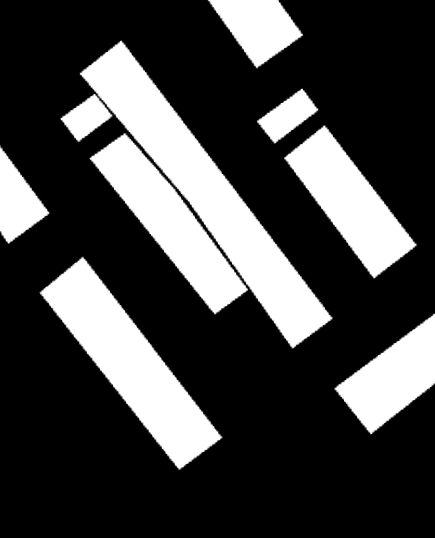parkingspot: (80, 41, 332, 348), (40, 257, 222, 470), (284, 126, 417, 278), (335, 314, 435, 434), (208, 0, 303, 68), (0, 146, 49, 244), (257, 89, 318, 143), (61, 94, 112, 142)
